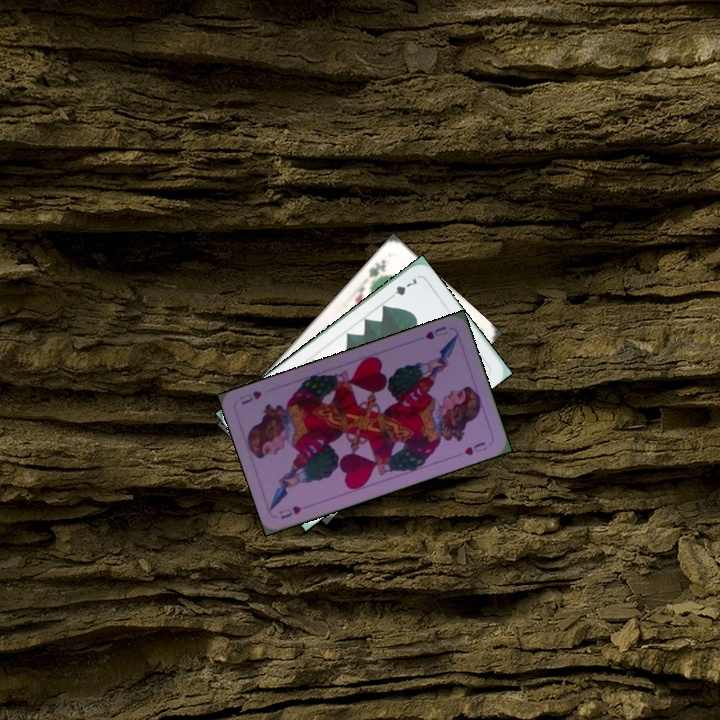G7: (384, 274, 421, 302)
GK: (365, 255, 388, 281)
HU: (421, 322, 450, 342), (275, 502, 304, 522)
